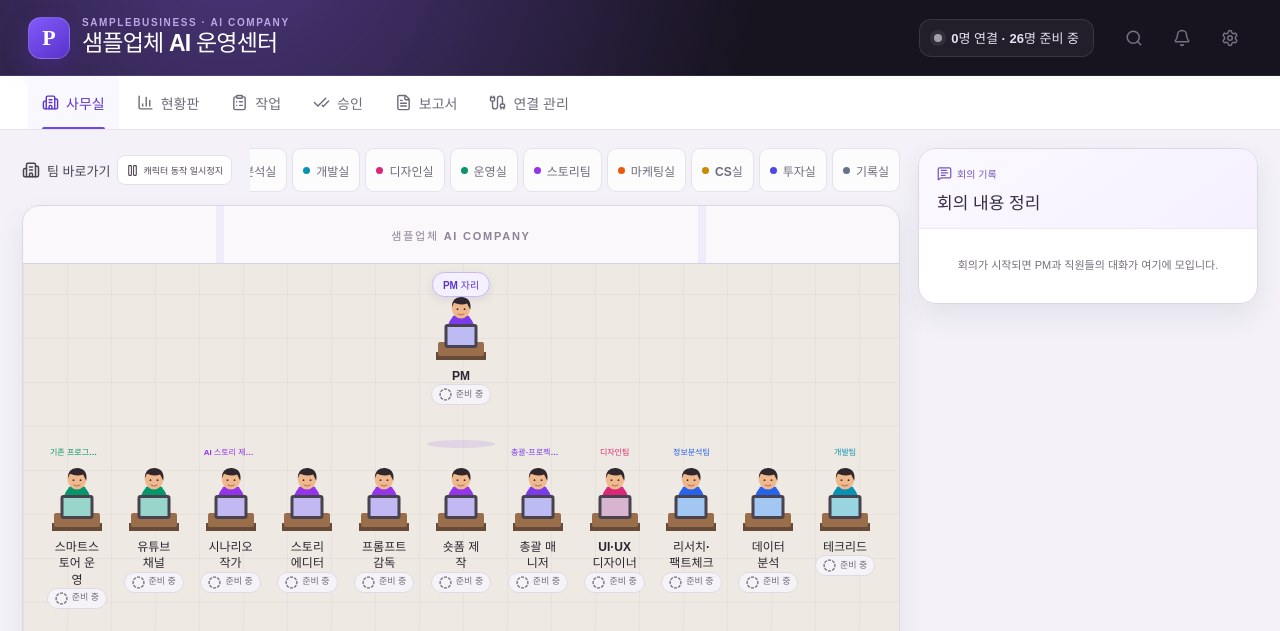
Test: AI 운영센터 사무실 › 팀을 선택하면 해당 팀 직원만 보여준다
Click the button with aria-label "개발실만 보기".
click(326, 170)  # box [292, 148, 360, 192]
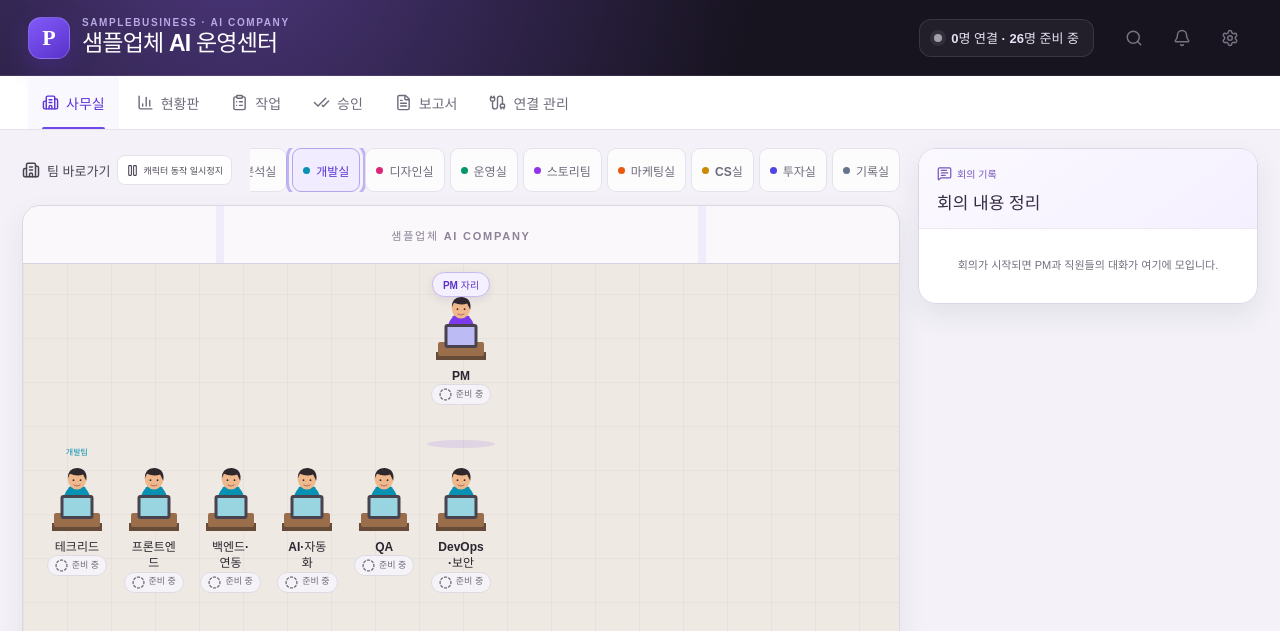
Check: the button with aria-label "PM 직원 선택, 준비 중" is shown, box [347, 283, 575, 413]
Check: the number of buttons named "직원 선택, 준비 중" is 7
